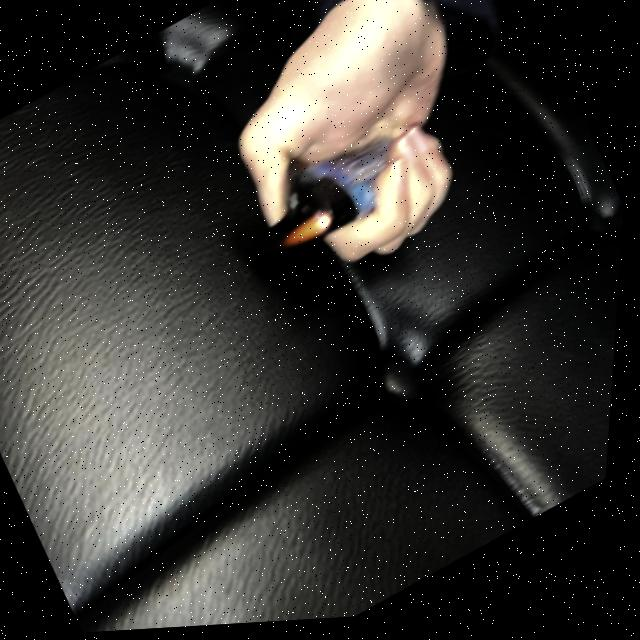Fire: (273, 207, 344, 265)
